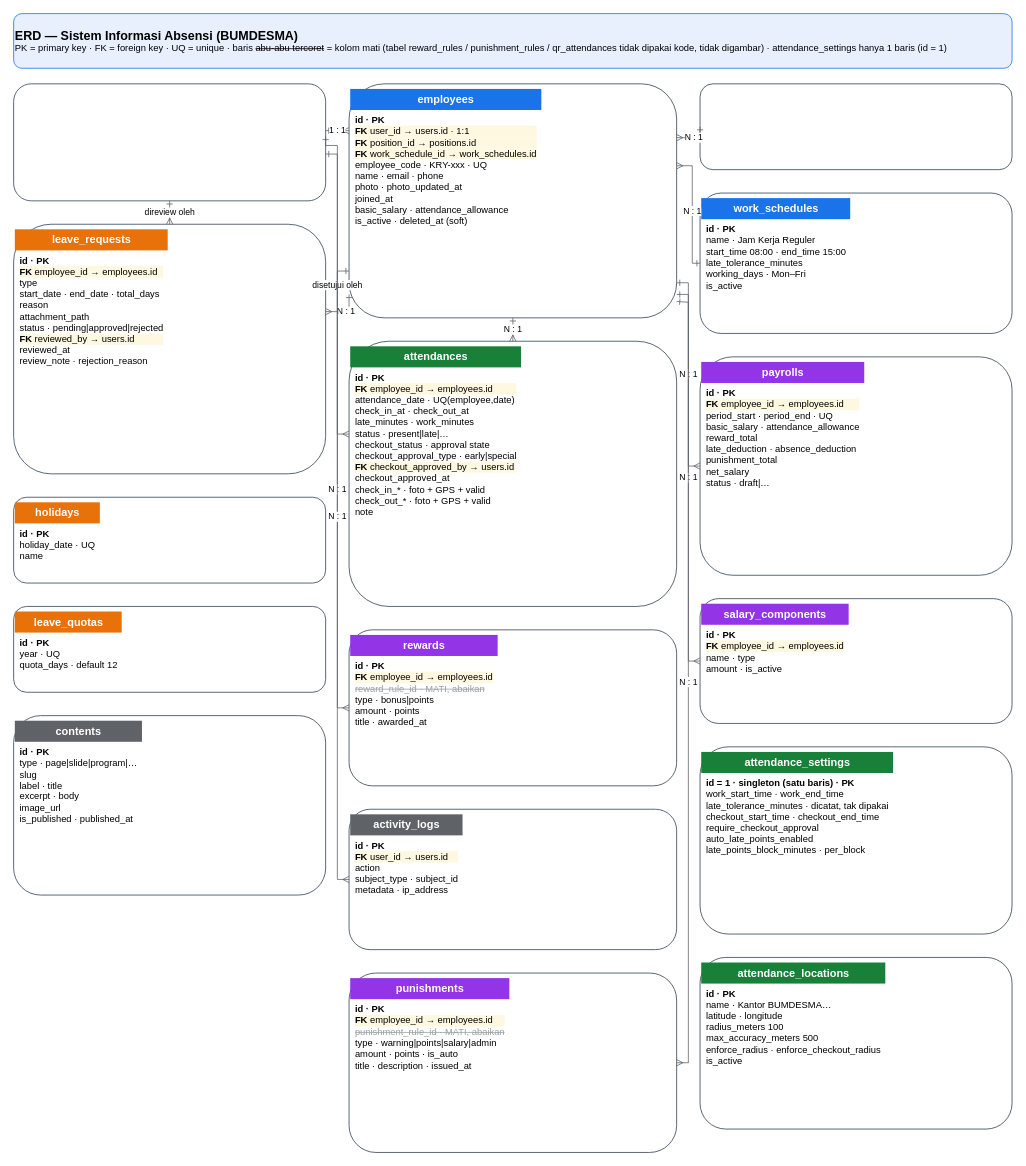
The diagram is 1026 pixels wide and 1166 high, and some of its shapes have lost their labels. Here are the shapes that lost their labels. From the top down, the centre of each, then its label:
At [169,142]: "users id · PK name email · UQ role · admin | employee password".
At [855,126]: "positions id · PK name · cth: Staff description".
